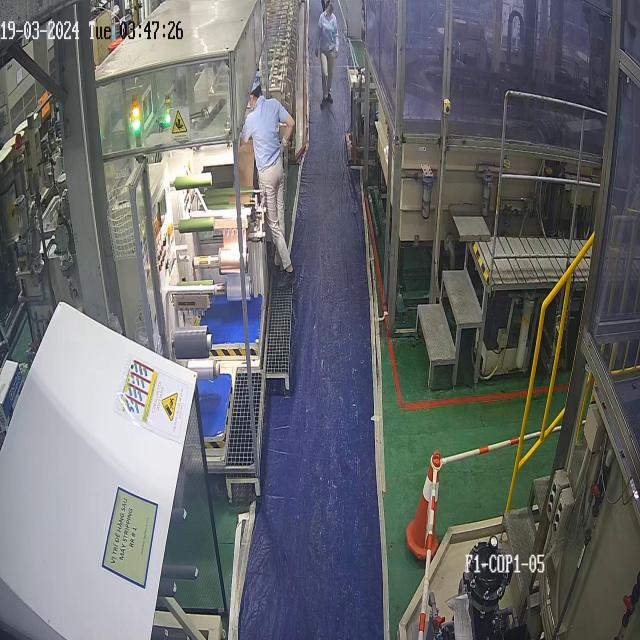Person: (238, 75, 296, 287), (314, 0, 339, 108)
